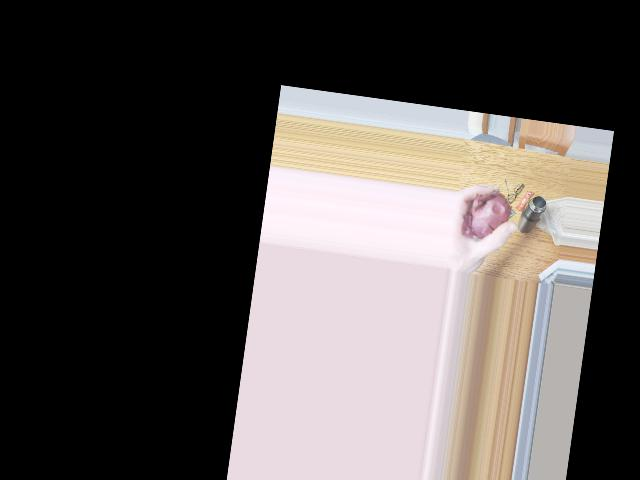onion: (462, 182, 507, 245)
